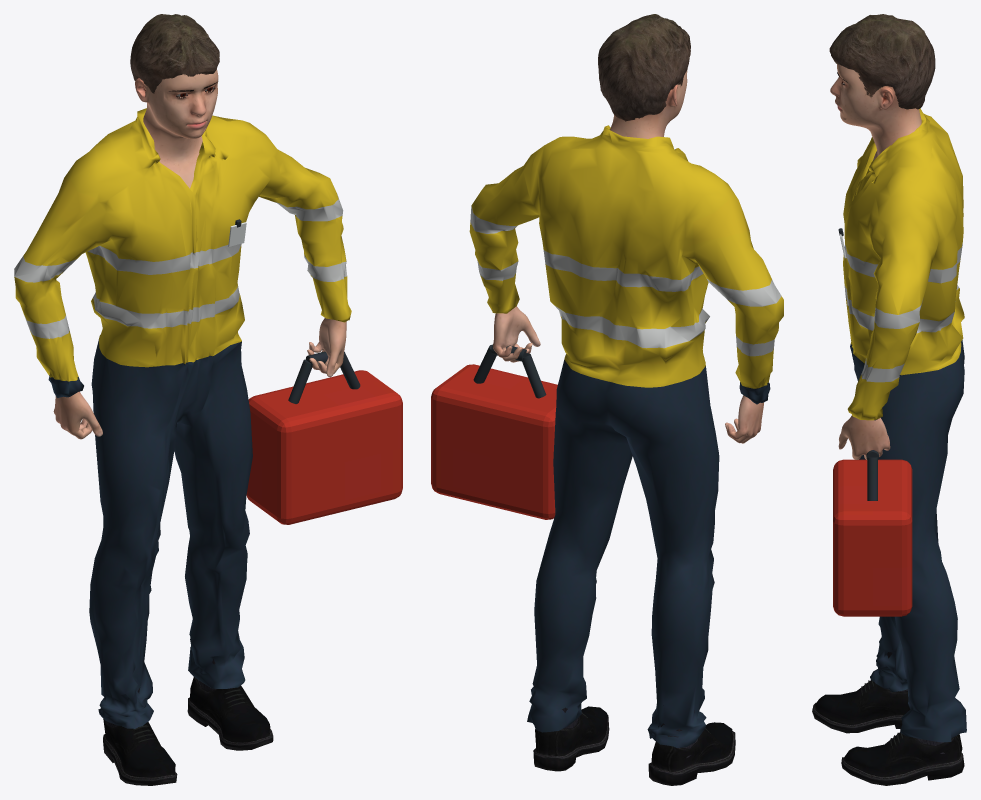
Rendered from premium-paramedic-drew.glb.
3 views of the same model, side by side, from view 1: azimuth 30°, elevation 25°; view 2: azimuth 150°, elevation 25°; view 3: azimuth 270°, elevation 25° (orthographic). The views are drawn at different scales.
Visible parts, largest first — view 1: male_casualsuit01, Paramedic | original response bag, Drew | anatomical body, shoes03, short02; view 2: male_casualsuit01, Paramedic | original response bag, short02, shoes03, Drew | anatomical body; view 3: male_casualsuit01, Paramedic | original response bag, shoes03, short02, Drew | anatomical body, Paramedic | bag handle strap.001.
Boxes of the visible parts, <box> form: male_casualsuit01: <box>14,108,351,728</box>; Paramedic | original response bag: <box>246,370,402,524</box>; Drew | anatomical body: <box>53,69,346,439</box>; shoes03: <box>103,659,273,785</box>; short02: <box>130,14,219,93</box>; male_casualsuit01: <box>469,125,783,747</box>; Paramedic | original response bag: <box>431,364,557,519</box>; short02: <box>598,14,690,121</box>; shoes03: <box>533,705,735,785</box>; Drew | anatomical body: <box>493,69,763,443</box>; male_casualsuit01: <box>843,108,966,742</box>; Paramedic | original response bag: <box>833,459,912,616</box>; shoes03: <box>812,648,964,785</box>; short02: <box>829,14,935,109</box>; Drew | anatomical body: <box>830,64,921,459</box>; Paramedic | bag handle strap.001: <box>867,457,877,500</box>.
Bounding box in the file's own units: 0.8996 × 1.81 × 0.3501.
14 materials, 14 textured.
